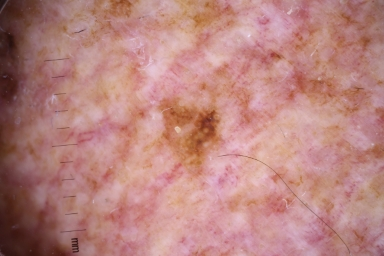melanoma: (164, 101, 221, 160)
